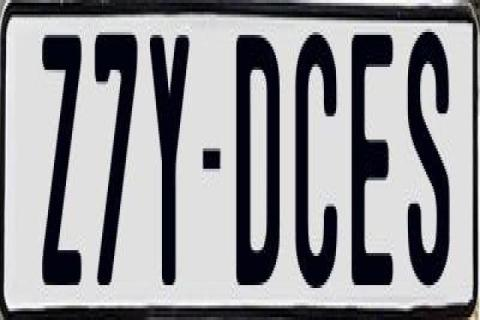0: (94, 26, 136, 282)
C: (291, 29, 338, 299)
D: (234, 32, 280, 300)
E: (350, 26, 394, 282)
S: (404, 23, 454, 291)
Y: (148, 26, 194, 288)
Z: (40, 29, 84, 291)
